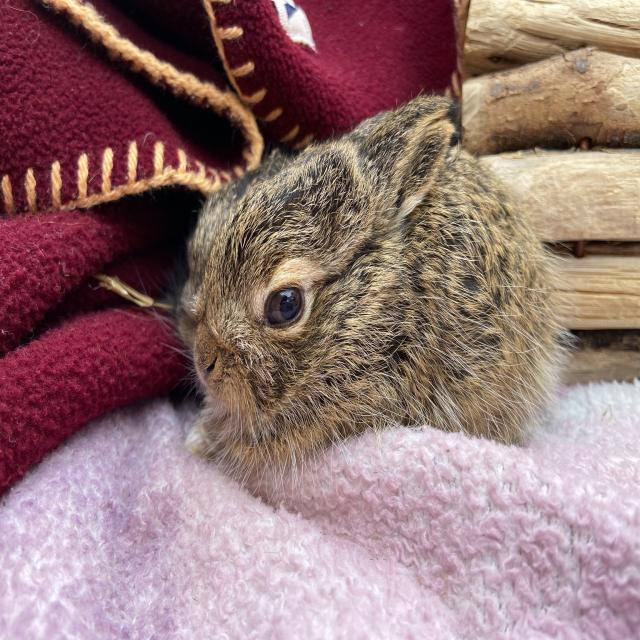Hare: (185, 92, 555, 463)
